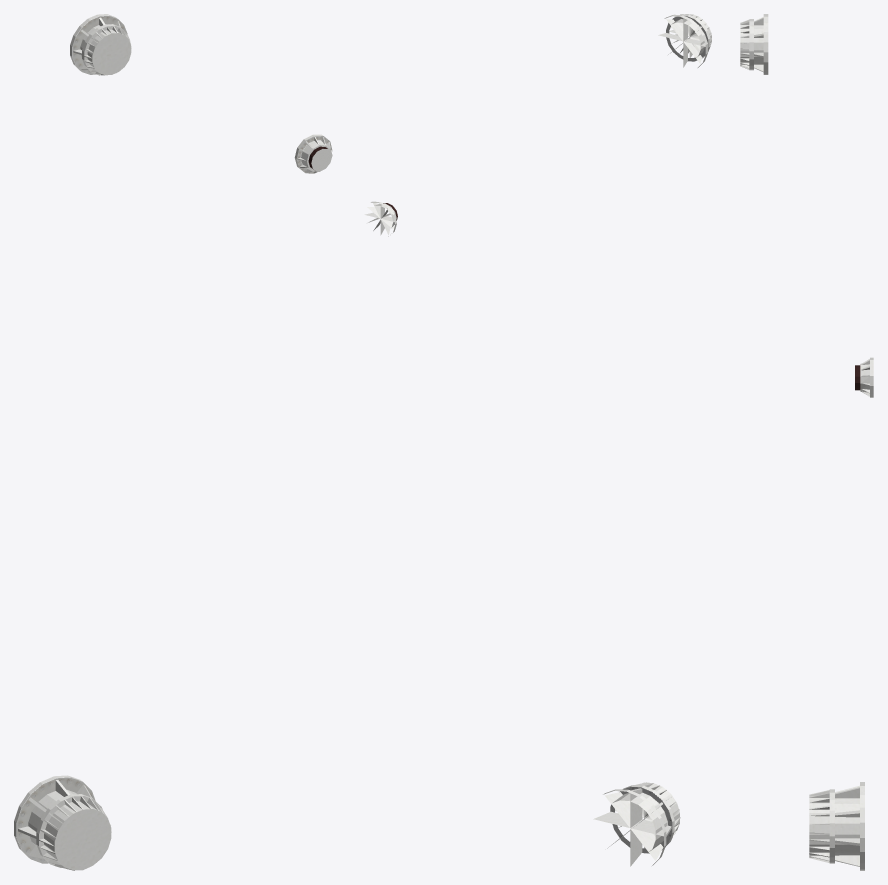
The model's file is sgz005-geode.glb.
3 renders of one model, left to right at view 1: azimuth 30°, elevation 25°; view 2: azimuth 150°, elevation 25°; view 3: azimuth 270°, elevation 25°, orthographic. The views are drawn at different scales.
Visible parts, largest first — view 1: Node; view 2: Node; view 3: Node.
Boxes of the visible parts, x1,y1,x2,y2 form: Node: [14, 14, 332, 870]; Node: [364, 14, 711, 866]; Node: [740, 14, 873, 870].
Size of the model in its own units: 3 by 7.91 by 1.13.
4 materials, 4 textured.
